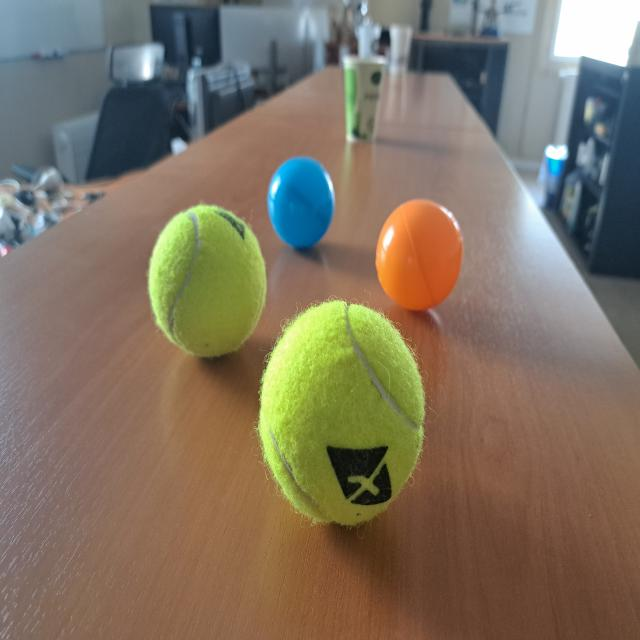blue: (268, 156, 336, 251)
orange: (374, 200, 464, 314)
tennis: (258, 297, 430, 531), (148, 205, 267, 360)
